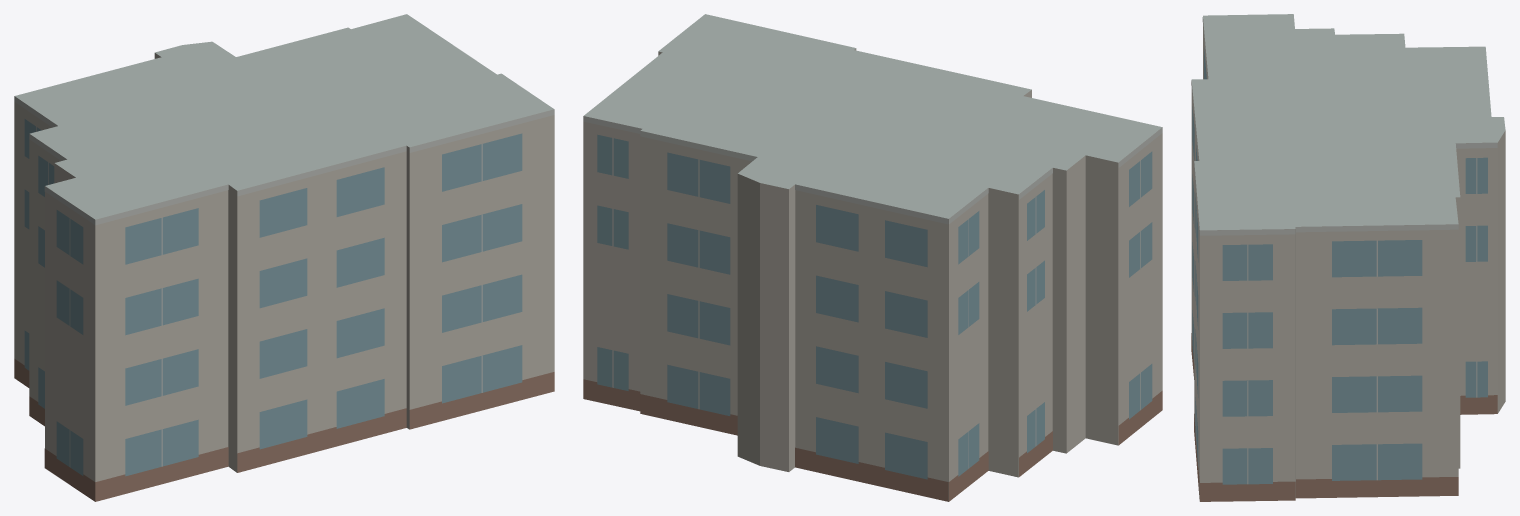
Rendered from survey-upis-32912944.glb.
3 renders of one model, left to right at view 1: azimuth 30°, elevation 25°; view 2: azimuth 150°, elevation 25°; view 3: azimuth 270°, elevation 25°, orthographic. The views are drawn at different scales.
Visible parts, largest first — view 1: survey-upis-32912944.tmp; view 2: survey-upis-32912944.tmp; view 3: survey-upis-32912944.tmp.
Part boxes in pixels (x1,y1,x2,y2): survey-upis-32912944.tmp: (14, 14, 554, 501); survey-upis-32912944.tmp: (583, 14, 1162, 501); survey-upis-32912944.tmp: (1191, 14, 1505, 501).
Bounding box in the file's own units: 20.86 × 12.2 × 12.79.
